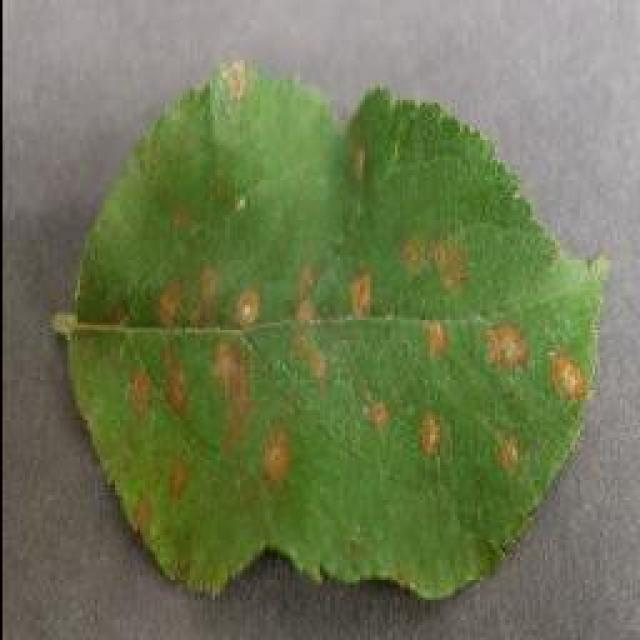apple cedar apple rust: (52, 55, 612, 603)
